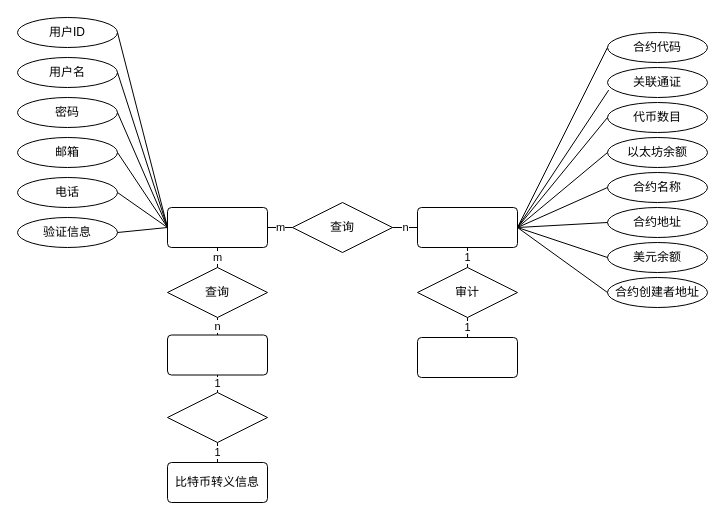
The diagram is 725 pixels wide and 520 high, and some of its shapes have lost their labels. The centre of each missing label's shape, as x and y in pixels:
"以太坊智能合约" belongs at point 467,227.
"合约审计报告" belongs at point 467,357.
"比特币区块信息" belongs at point 217,354.
"用户" belongs at point 217,227.
"转义" belongs at point 217,417.
